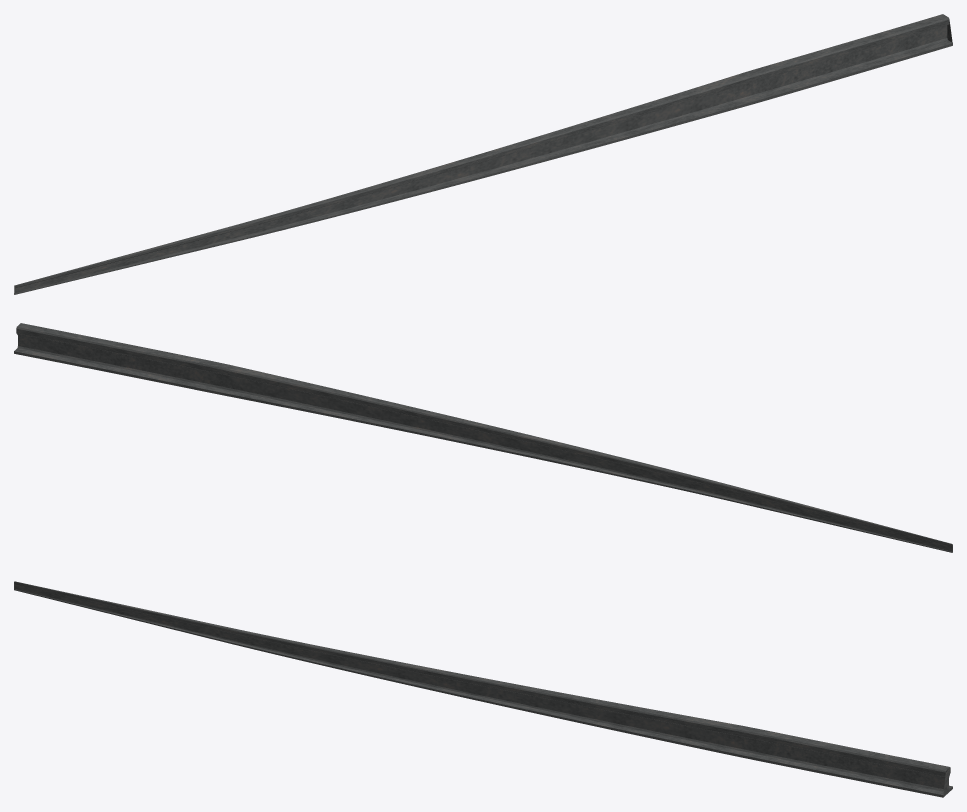
File: PROJECT_Z_Moving_Switch_Blade_Right_LOCAL_PIVOT.glb
3 renders of one model, top to bottom at view 1: azimuth 30°, elevation 25°; view 2: azimuth 150°, elevation 25°; view 3: azimuth 330°, elevation 25°, orthographic. The views are drawn at different scales.
Visible parts, largest first — view 1: ANIM_31_Switch_Blade_Right_Heel_Pivot; view 2: ANIM_31_Switch_Blade_Right_Heel_Pivot; view 3: ANIM_31_Switch_Blade_Right_Heel_Pivot.
Part boxes in pixels (x1,y1,x2,y2): ANIM_31_Switch_Blade_Right_Heel_Pivot: [14, 14, 952, 294]; ANIM_31_Switch_Blade_Right_Heel_Pivot: [14, 323, 952, 552]; ANIM_31_Switch_Blade_Right_Heel_Pivot: [14, 581, 952, 797].
Bounding box in the file's own units: 6.56 × 0.168 × 0.3991.
1 material, 1 textured.
